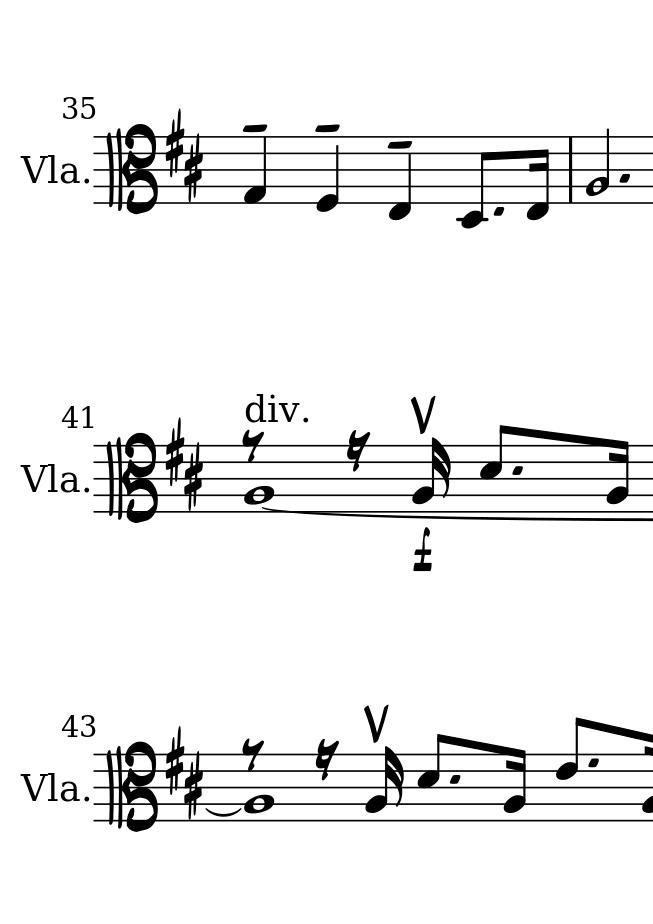1: (80, 403, 94, 431)
16_-1: (524, 134, 551, 222)
16_2: (364, 745, 404, 823), (410, 437, 451, 513), (501, 746, 528, 824), (605, 439, 631, 514)
1_2: (244, 442, 276, 516), (244, 752, 273, 823)
2_2: (584, 126, 613, 206)
3: (79, 712, 96, 739), (61, 95, 78, 120)
4: (61, 401, 77, 431), (61, 713, 78, 740)
4_-1: (386, 135, 414, 223)
4_0: (314, 135, 341, 214)
4_1: (240, 135, 269, 206)
5: (79, 93, 96, 122)
8_-2: (455, 134, 494, 229)
8_5: (477, 422, 512, 515), (415, 731, 450, 824)
8_6: (554, 715, 589, 824)
Cclef: (105, 740, 158, 834), (105, 122, 158, 215), (105, 431, 157, 524)
D_S: (165, 107, 206, 205), (164, 418, 204, 514), (165, 730, 205, 819)
Rests16: (312, 738, 340, 783), (345, 429, 371, 474)
Rests8: (240, 737, 266, 771), (240, 428, 265, 463)
Single_barline: (564, 137, 577, 205)
Slur: (203, 807, 240, 818)
Tremolo_bar: (405, 392, 438, 435), (363, 703, 390, 743)
Vla: (21, 458, 81, 502), (21, 150, 81, 193), (21, 767, 81, 810)
dot: (585, 755, 600, 771), (447, 771, 462, 787), (491, 204, 505, 218), (618, 171, 631, 185)
f: (410, 526, 433, 575)
